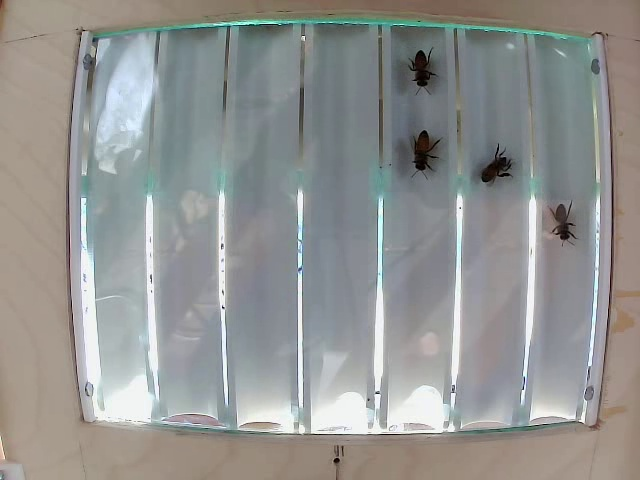bee: (407, 44, 451, 96), (550, 202, 585, 249), (489, 153, 523, 193), (408, 134, 445, 167)
